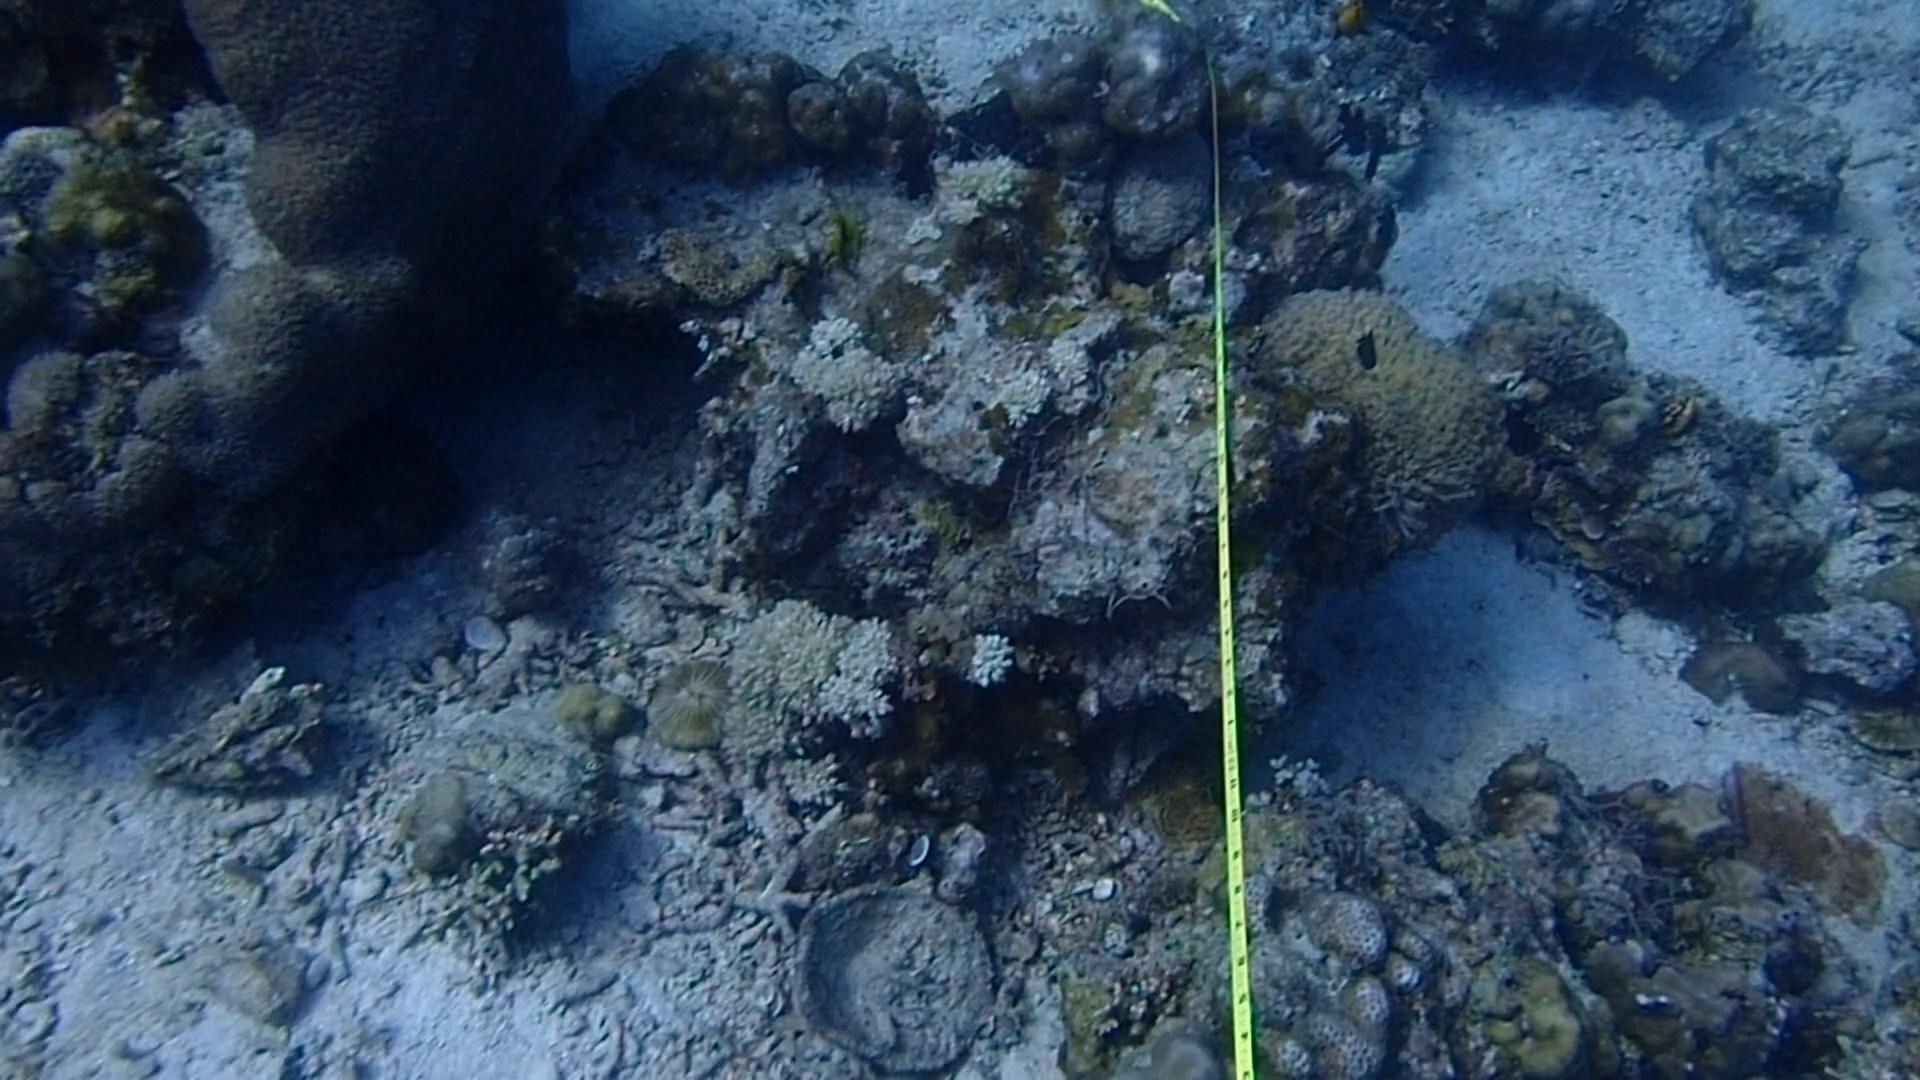Dark Fish: (1481, 396, 1553, 465), (1332, 91, 1379, 157), (1370, 194, 1404, 272), (1348, 313, 1383, 382), (1358, 123, 1393, 189)
